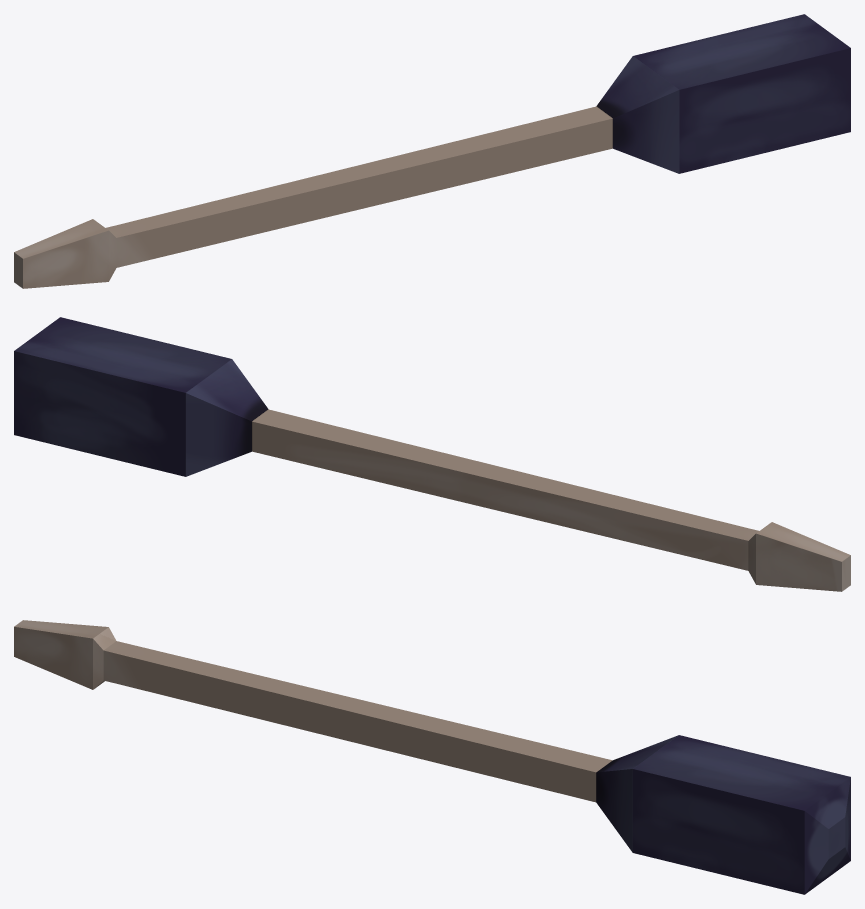
The model's file is chaveFenda.fbx.
3 views of the same model, one above another, from view 1: azimuth 30°, elevation 25°; view 2: azimuth 150°, elevation 25°; view 3: azimuth 330°, elevation 25° (orthographic).
Parts seen in each view (by area): view 1: Cube; view 2: Cube; view 3: Cube.
Part boxes in pixels (<box>): Cube: <box>14,14,850,288</box>; Cube: <box>14,317,850,591</box>; Cube: <box>14,620,850,894</box>.
Bounding box in the file's own units: 1.79 × 0.1754 × 0.1754.
